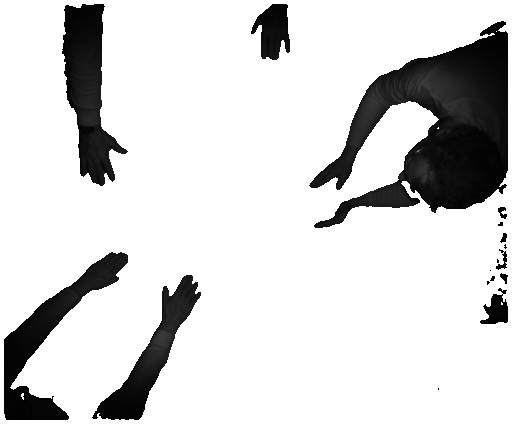hand: (78, 135, 127, 191), (159, 272, 207, 327), (79, 248, 127, 298), (248, 12, 295, 63)
spine: (310, 152, 352, 194), (312, 200, 354, 231)
